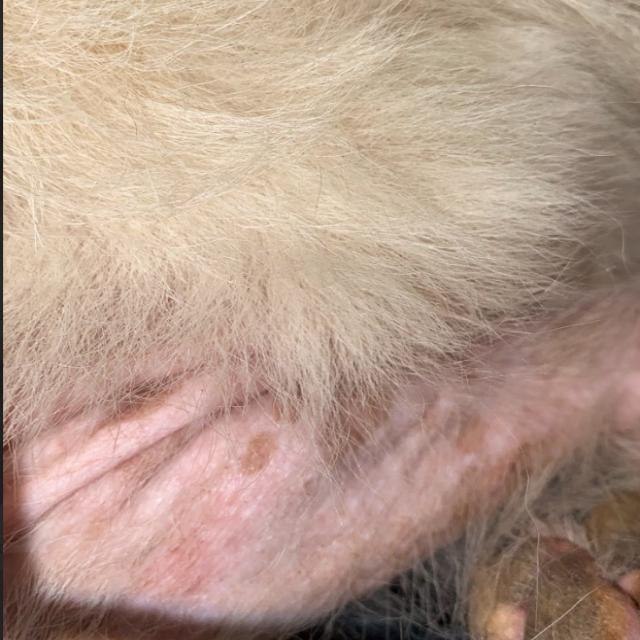demodicosis: (70, 351, 594, 590)
